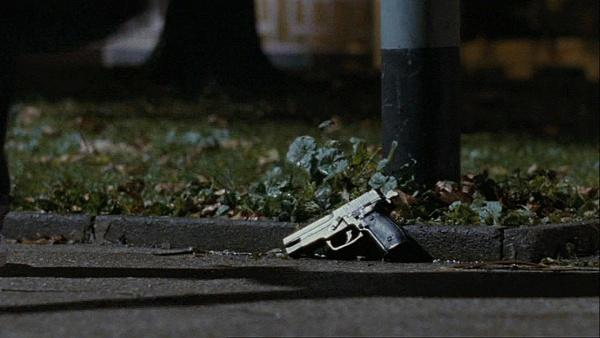Gun: (282, 188, 409, 261)
